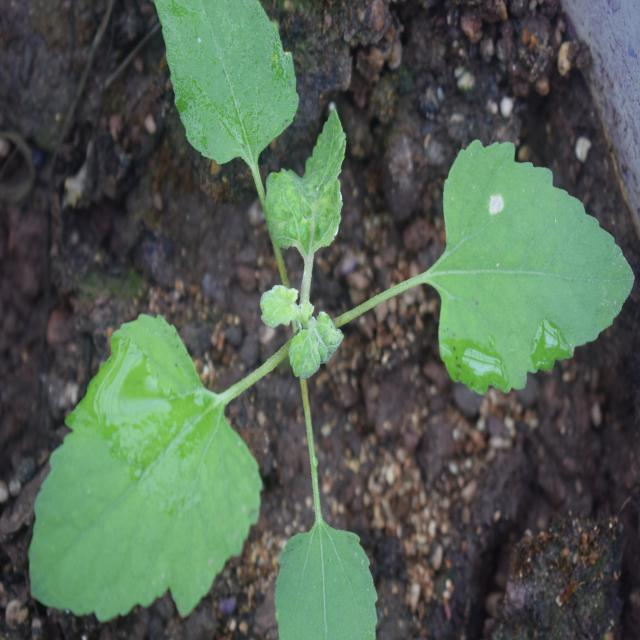cocklebur: (21, 0, 584, 603)
